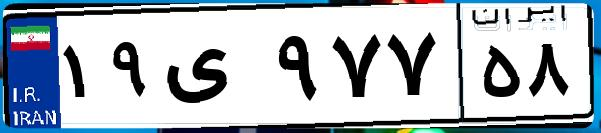1: (57, 26, 110, 100)
5: (475, 38, 525, 113)
7: (385, 28, 445, 110), (330, 28, 385, 110)
8: (525, 38, 570, 115)
9: (270, 28, 330, 110), (110, 28, 158, 98)
ی: (158, 20, 270, 120)
